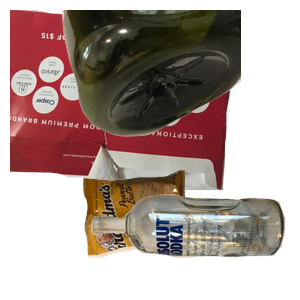glass: (88, 192, 300, 300)
paper: (10, 10, 238, 190)
plastic: (60, 10, 300, 139)
trash: (81, 168, 261, 300)
